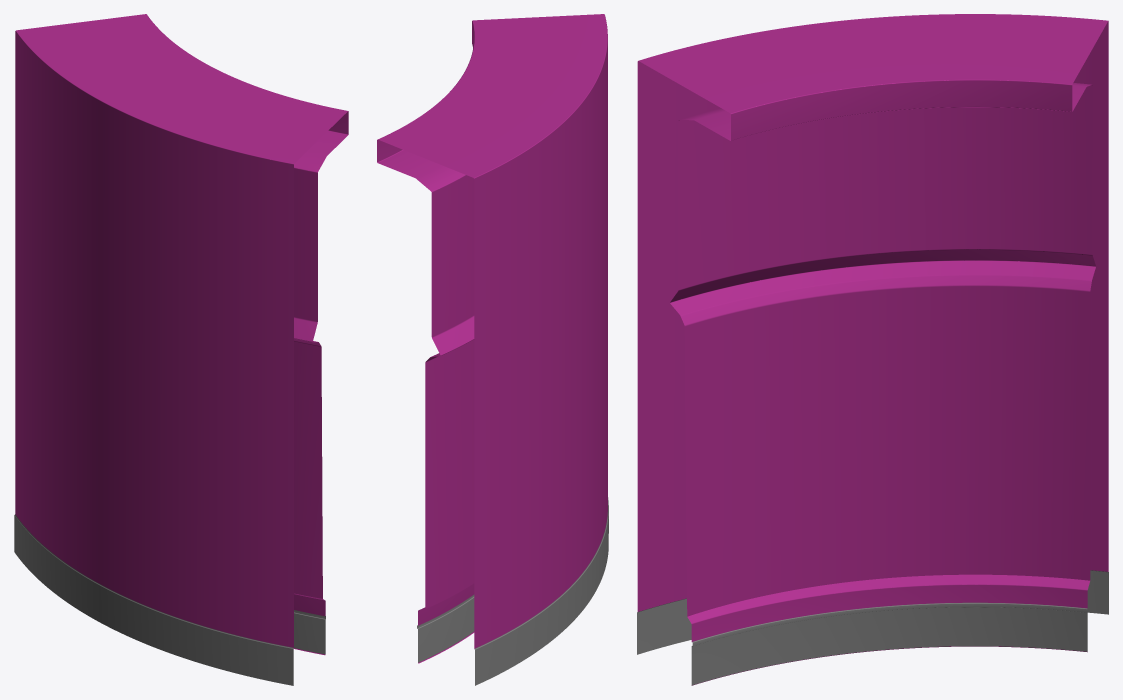
Rendered from StudioLuxuryWallSegment_01_Mesh.fbx.
The picture shows the model from 3 angles, left to right: view 1: azimuth 30°, elevation 25°; view 2: azimuth 150°, elevation 25°; view 3: azimuth 270°, elevation 25°; orthographic projection. The views are drawn at different scales.
Parts seen in each view (by area): view 1: StudioLuxuryWallSegment_01_Mesh; view 2: StudioLuxuryWallSegment_01_Mesh; view 3: StudioLuxuryWallSegment_01_Mesh.
Boxes of the visible parts, x1,y1,x2,y2 form: StudioLuxuryWallSegment_01_Mesh: [14, 14, 348, 685]; StudioLuxuryWallSegment_01_Mesh: [377, 14, 608, 685]; StudioLuxuryWallSegment_01_Mesh: [637, 14, 1108, 685].
Bounding box in the file's own units: 293 × 807 × 580.
